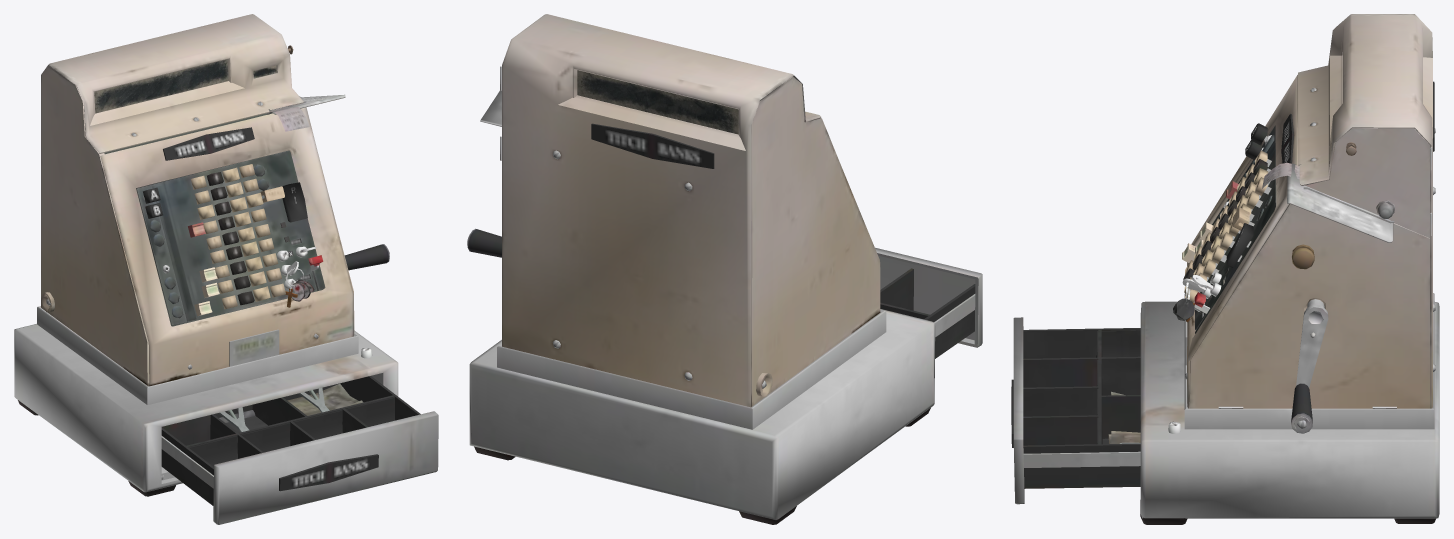
File: CashRegister_01.glb
3 views of the same model, side by side, from view 1: azimuth 30°, elevation 25°; view 2: azimuth 150°, elevation 25°; view 3: azimuth 270°, elevation 25° (orthographic). The views are drawn at different scales.
Parts seen in each view (by area): view 1: CashRegister_01_body; view 2: CashRegister_01_body; view 3: CashRegister_01_body.
Boxes of the visible parts, x1=… form: CashRegister_01_body: x1=14, y1=14, x2=438, y2=524; CashRegister_01_body: x1=467, y1=14, x2=982, y2=524; CashRegister_01_body: x1=1011, y1=14, x2=1439, y2=524.
Bounding box in the file's own units: 0.6005 × 0.6211 × 0.6242.
2 materials, 2 textured.
